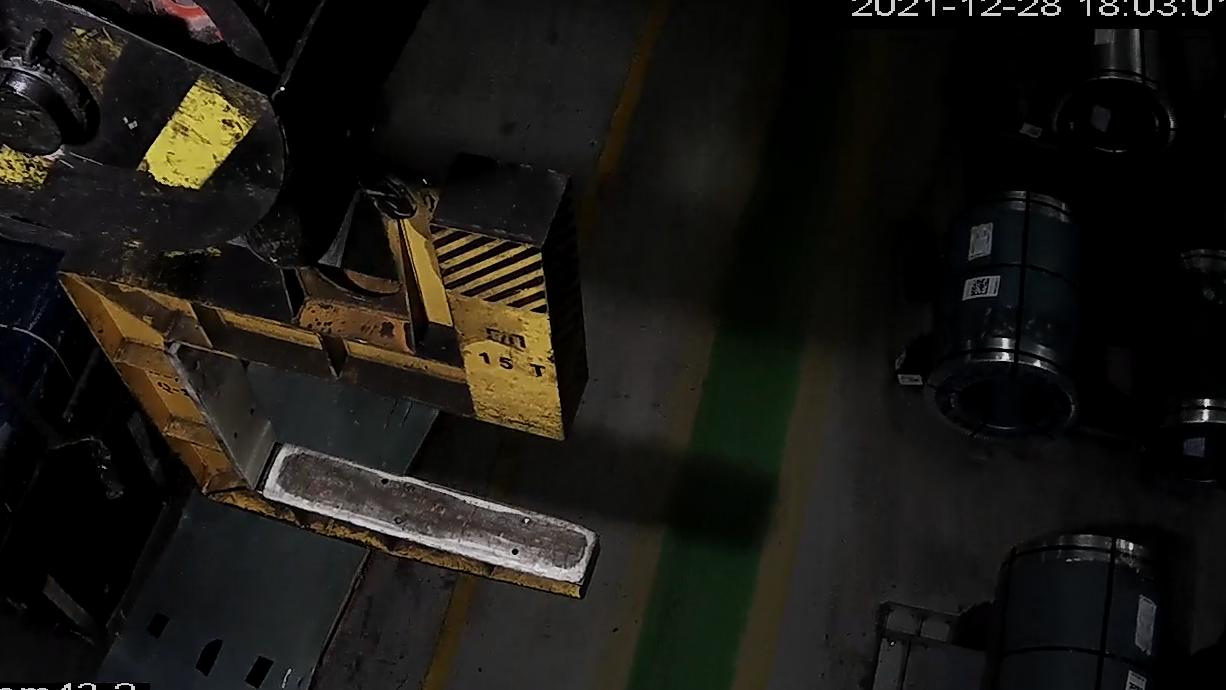data matrix: (969, 277, 993, 300), (1125, 681, 1147, 690)
